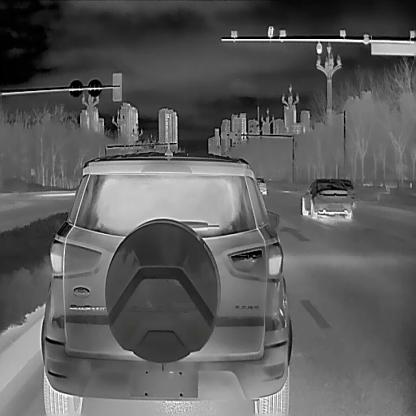car: (39, 151, 291, 414), (300, 177, 351, 221), (336, 180, 354, 200), (254, 176, 266, 195)
